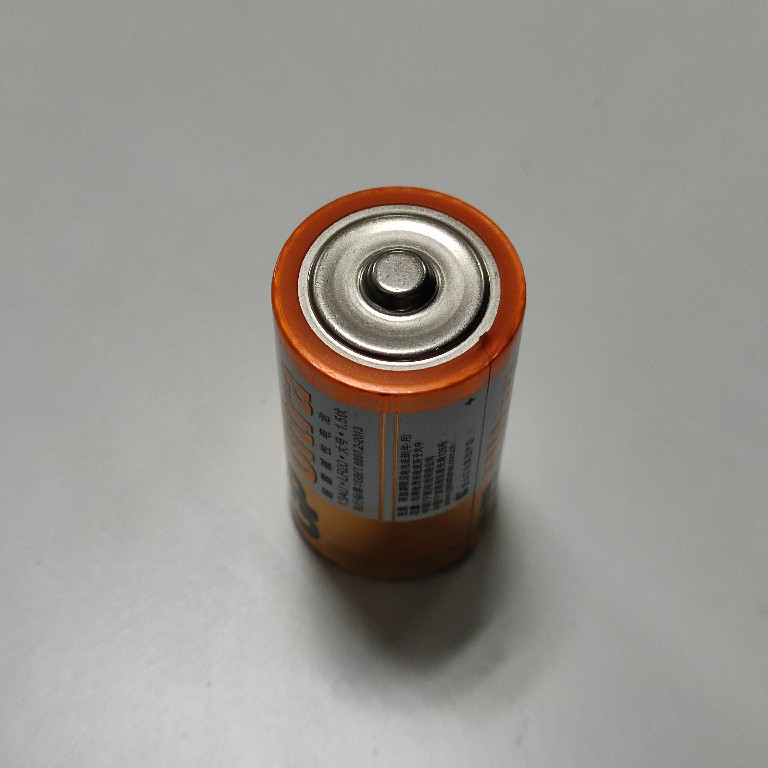charge: (265, 183, 528, 583)
